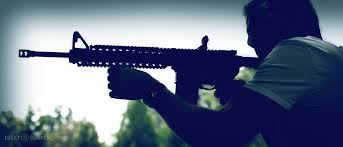Gun: (83, 37, 233, 83)
